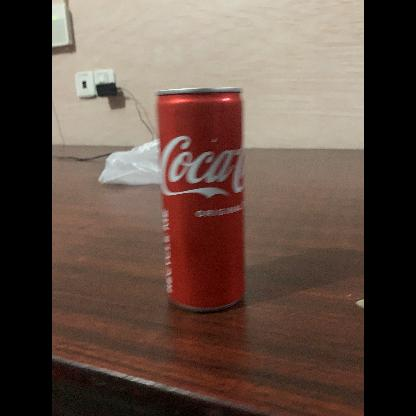Tin_Can: (150, 73, 252, 323)
